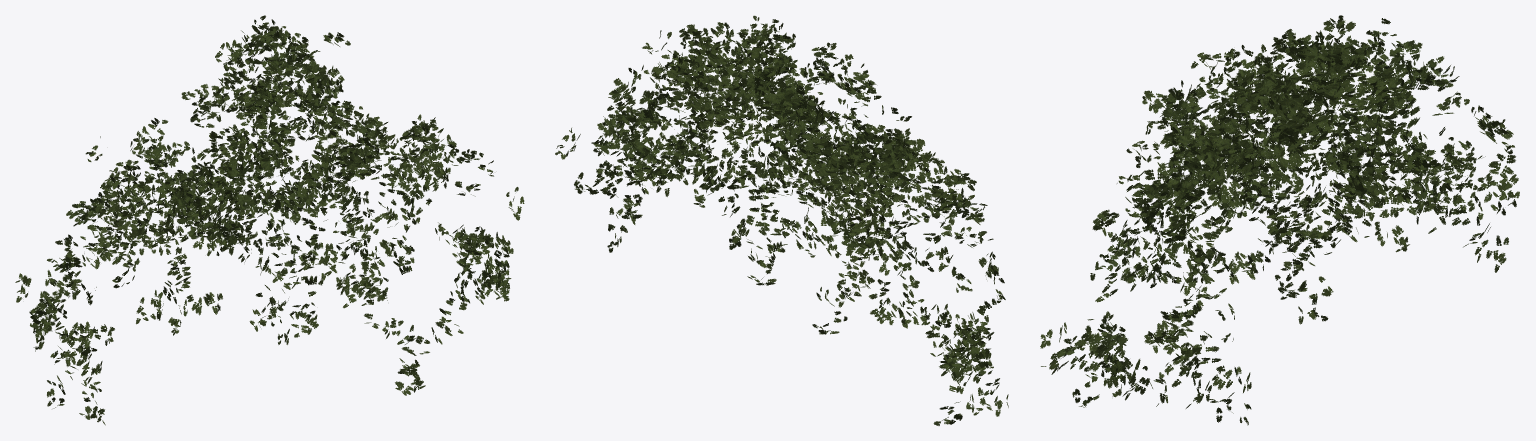
The model's file is MESH_AS11_Y_Chinaberry_LOD2.fbx.
3 views of the same model, side by side, from view 1: azimuth 30°, elevation 25°; view 2: azimuth 150°, elevation 25°; view 3: azimuth 270°, elevation 25° (orthographic). The views are drawn at different scales.
Parts seen in each view (by area): view 1: MI_LOD2_001; view 2: MI_LOD2_001; view 3: MI_LOD2_001.
Part boxes in pixels (bbox=[...]): MI_LOD2_001: bbox=[15, 15, 524, 425]; MI_LOD2_001: bbox=[555, 15, 1008, 425]; MI_LOD2_001: bbox=[1040, 15, 1519, 425].
Size of what is drawn, in the model's own units: 523 by 381 by 403.
